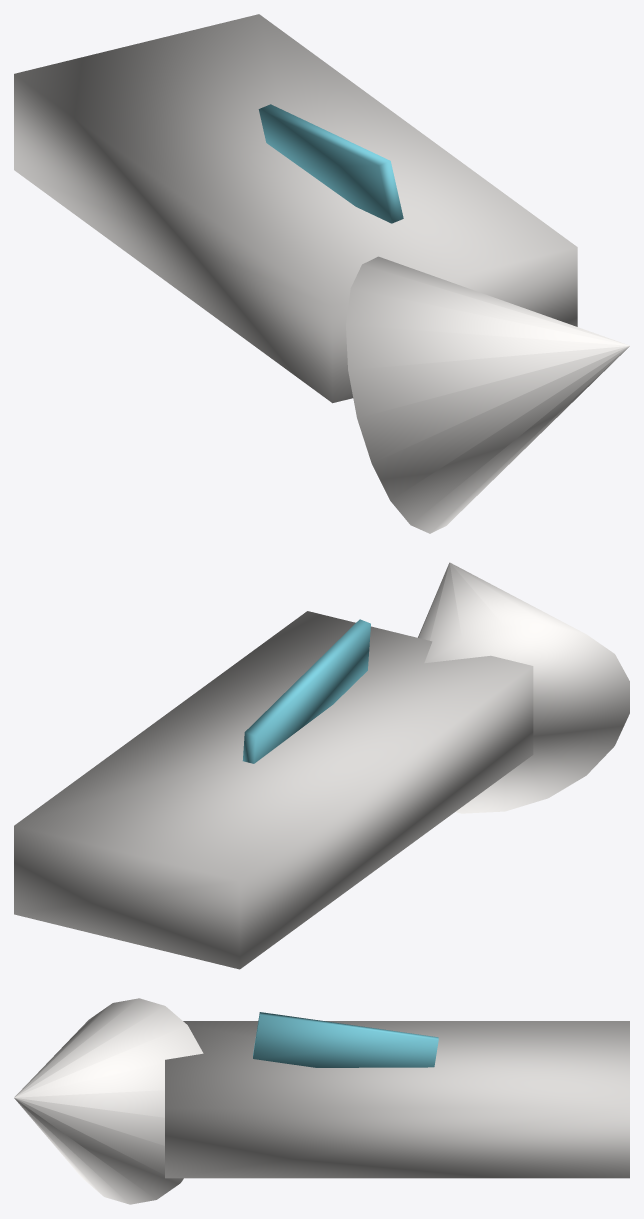
The model's file is speedboat.glb.
The picture shows the model from 3 angles, top to bottom: view 1: azimuth 30°, elevation 25°; view 2: azimuth 150°, elevation 25°; view 3: azimuth 270°, elevation 25°; orthographic projection. The views are drawn at different scales.
Visible parts, largest first — view 1: hull, bow, screen; view 2: hull, bow, screen; view 3: hull, bow, screen.
Part boxes in pixels (left/top/right/bottom): hull: left=14, top=14, right=577, bottom=403; bow: left=346, top=256, right=629, bottom=533; screen: left=258, top=104, right=403, bottom=223; hull: left=14, top=611, right=533, bottom=969; bow: left=418, top=562, right=629, bottom=813; screen: left=242, top=619, right=370, bottom=763; hull: left=165, top=1021, right=629, bottom=1178; bow: left=14, top=998, right=203, bottom=1204; screen: left=253, top=1012, right=438, bottom=1067.
Bounding box in the file's own units: 0.9309 × 0.8556 × 2.38.
